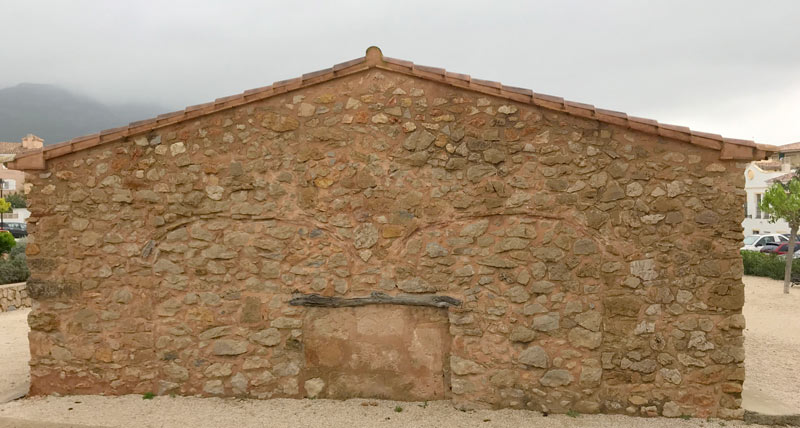Muro: (26, 67, 749, 423)
